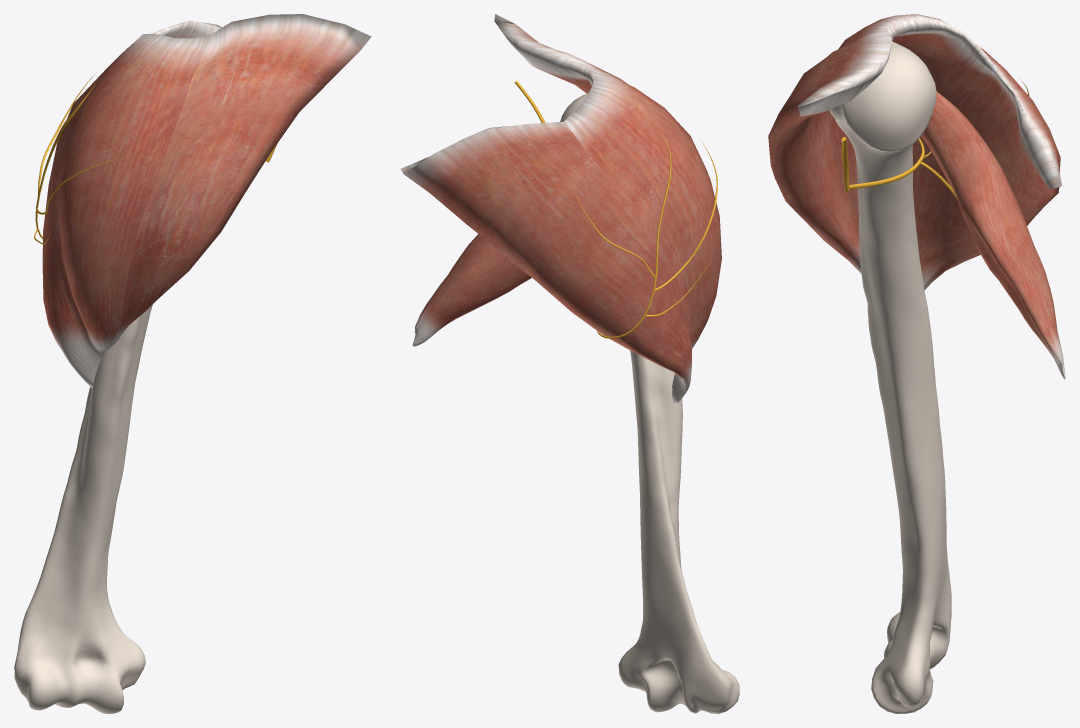
The model's file is axillary-nerve.glb.
The picture shows the model from 3 angles, left to right: view 1: azimuth 30°, elevation 25°; view 2: azimuth 150°, elevation 25°; view 3: azimuth 270°, elevation 25°; orthographic projection. The views are drawn at different scales.
Parts seen in each view (by area): view 1: Deltoid muscle.r, Humerus.r, Axillary nerve - superior lateral br cutaneous nerve.r; view 2: Deltoid muscle.r, Humerus.r, Teres minor muscle.r, Axillary nerve - superior lateral br cutaneous nerve.r; view 3: Humerus.r, Deltoid muscle.r, Teres minor muscle.r, Axillary nerve - superior lateral br cutaneous nerve.r.
Part boxes in pixels (box(x1,y1,x2,y2)): Deltoid muscle.r: box(42, 14, 371, 388); Humerus.r: box(14, 304, 152, 713); Axillary nerve - superior lateral br cutaneous nerve.r: box(34, 72, 133, 244); Deltoid muscle.r: box(400, 14, 721, 405); Humerus.r: box(560, 93, 739, 713); Teres minor muscle.r: box(412, 234, 531, 346); Axillary nerve - superior lateral br cutaneous nerve.r: box(573, 130, 717, 338); Humerus.r: box(829, 41, 951, 713); Deltoid muscle.r: box(768, 14, 1061, 290); Teres minor muscle.r: box(921, 91, 1065, 379); Axillary nerve - superior lateral br cutaneous nerve.r: box(849, 78, 1029, 200).
Size of the model in its own units: 0.1592 by 0.3347 by 0.1219.
3 materials, 1 textured.
